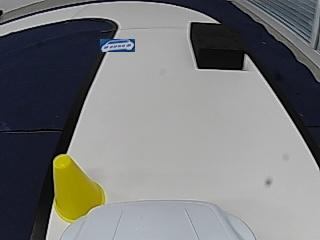block: (190, 21, 245, 69)
cone: (52, 155, 105, 203)
